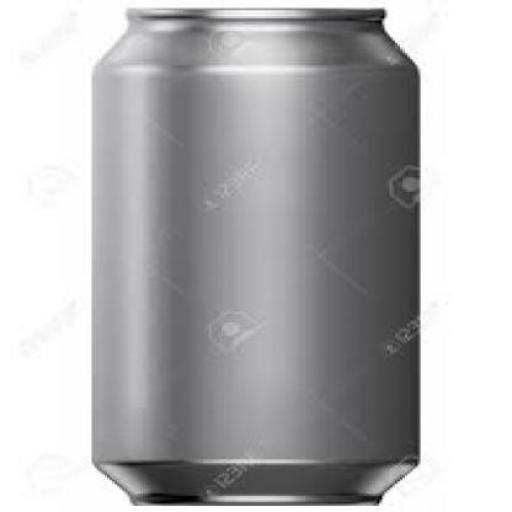metal: (84, 6, 418, 504)
